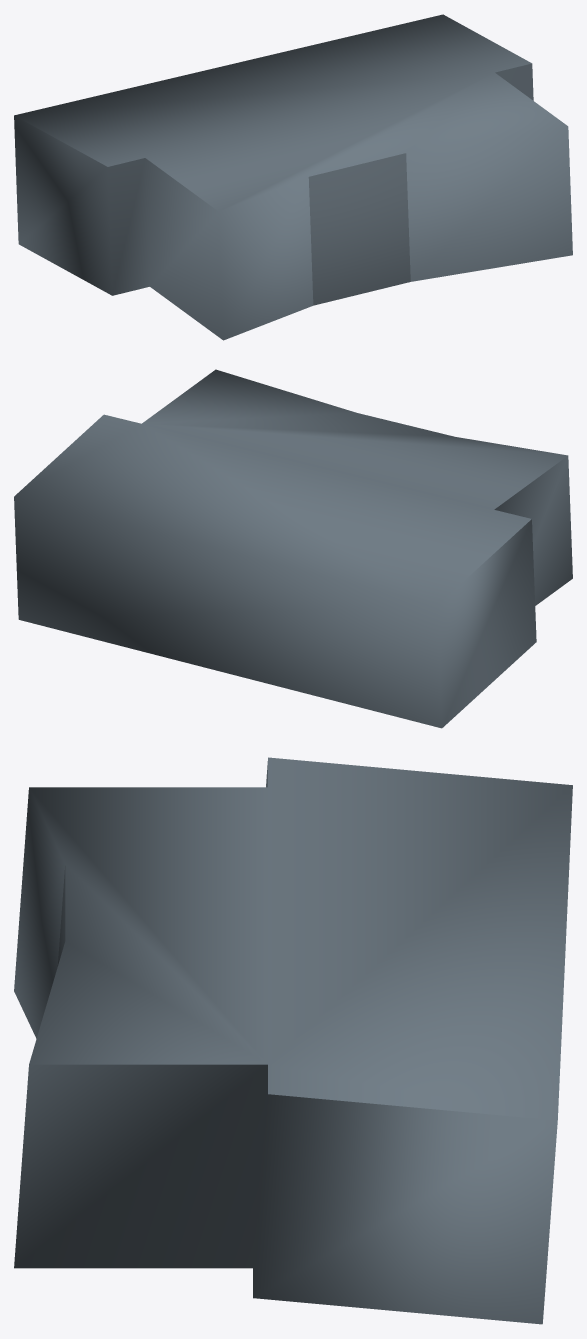
The model's file is Pieza2Puente.fbx.
3 renders of one model, top to bottom at view 1: azimuth 30°, elevation 25°; view 2: azimuth 150°, elevation 25°; view 3: azimuth 270°, elevation 25°, orthographic. The views are drawn at different scales.
Parts seen in each view (by area): view 1: Puente.002; view 2: Puente.002; view 3: Puente.002.
Part boxes in pixels (x1,y1,x2,y2): Puente.002: (14, 14, 572, 340); Puente.002: (14, 369, 572, 728); Puente.002: (14, 757, 572, 1324).
Size of the model in its own units: 414 by 135 by 291.
